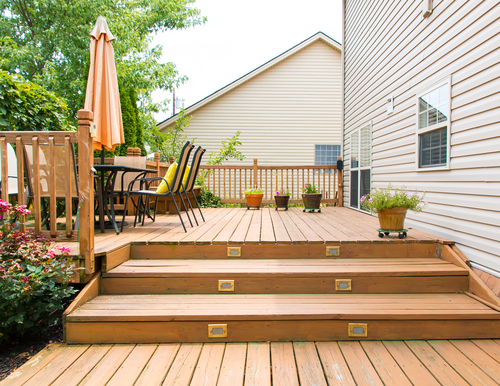upstairs: (145, 235, 439, 350)
